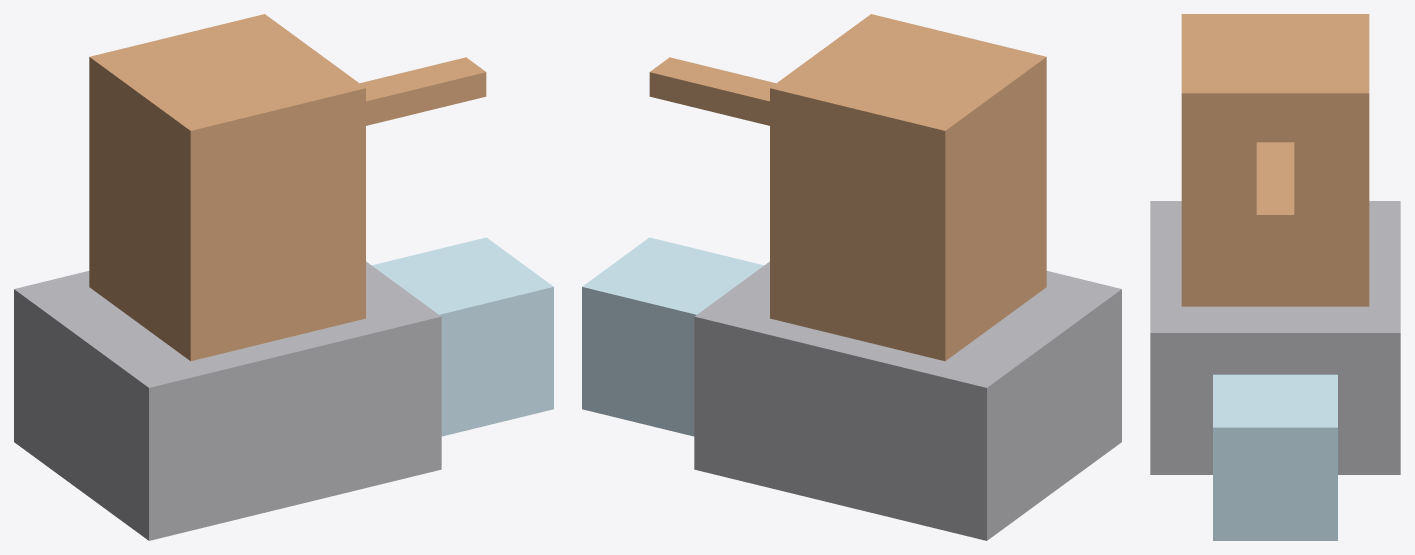
Rendered from Prop_Water_AMF_SolarStill_V3.glb.
The picture shows the model from 3 angles, left to right: view 1: azimuth 30°, elevation 25°; view 2: azimuth 150°, elevation 25°; view 3: azimuth 270°, elevation 25°; orthographic projection. The views are drawn at different scales.
Parts seen in each view (by area): view 1: Prop_Water_AMF_SolarStill_V3; view 2: Prop_Water_AMF_SolarStill_V3; view 3: Prop_Water_AMF_SolarStill_V3.
Boxes of the visible parts, x1,y1,x2,y2 form: Prop_Water_AMF_SolarStill_V3: [14, 14, 553, 540]; Prop_Water_AMF_SolarStill_V3: [582, 14, 1121, 540]; Prop_Water_AMF_SolarStill_V3: [1150, 14, 1400, 540].
Bounding box in the file's own units: 1.5 × 1.25 × 0.8.
